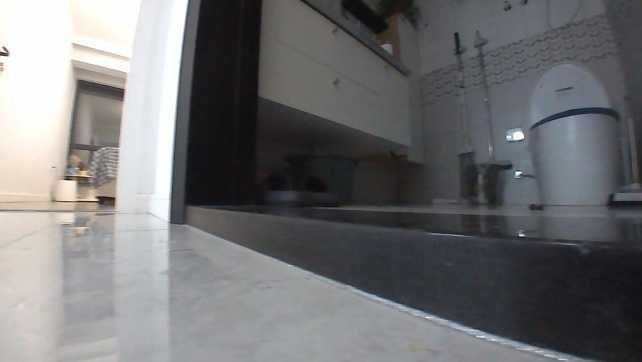door_sill: (182, 195, 641, 361)
toilet: (519, 55, 623, 204)
washstand: (246, 0, 424, 172)
